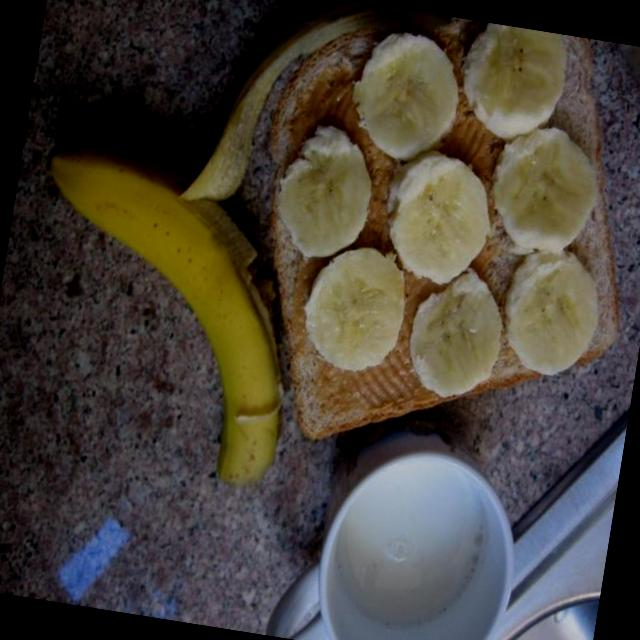Banana: (0, 115, 334, 494)
